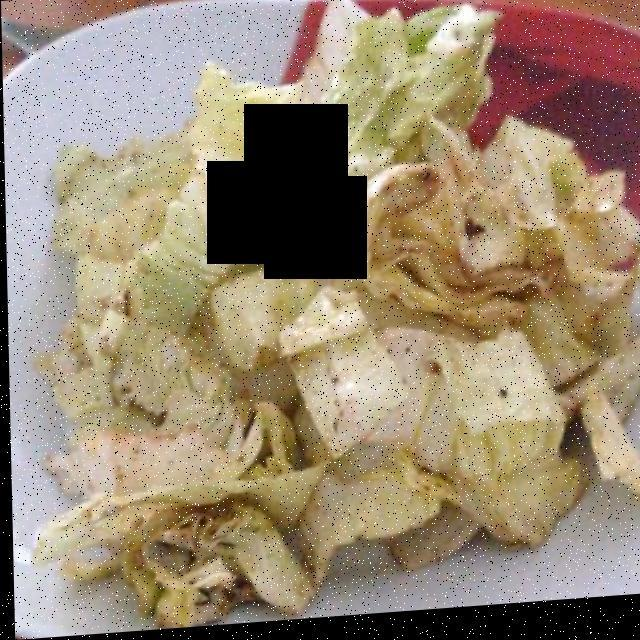salad: (35, 15, 640, 622), (166, 145, 581, 573)
